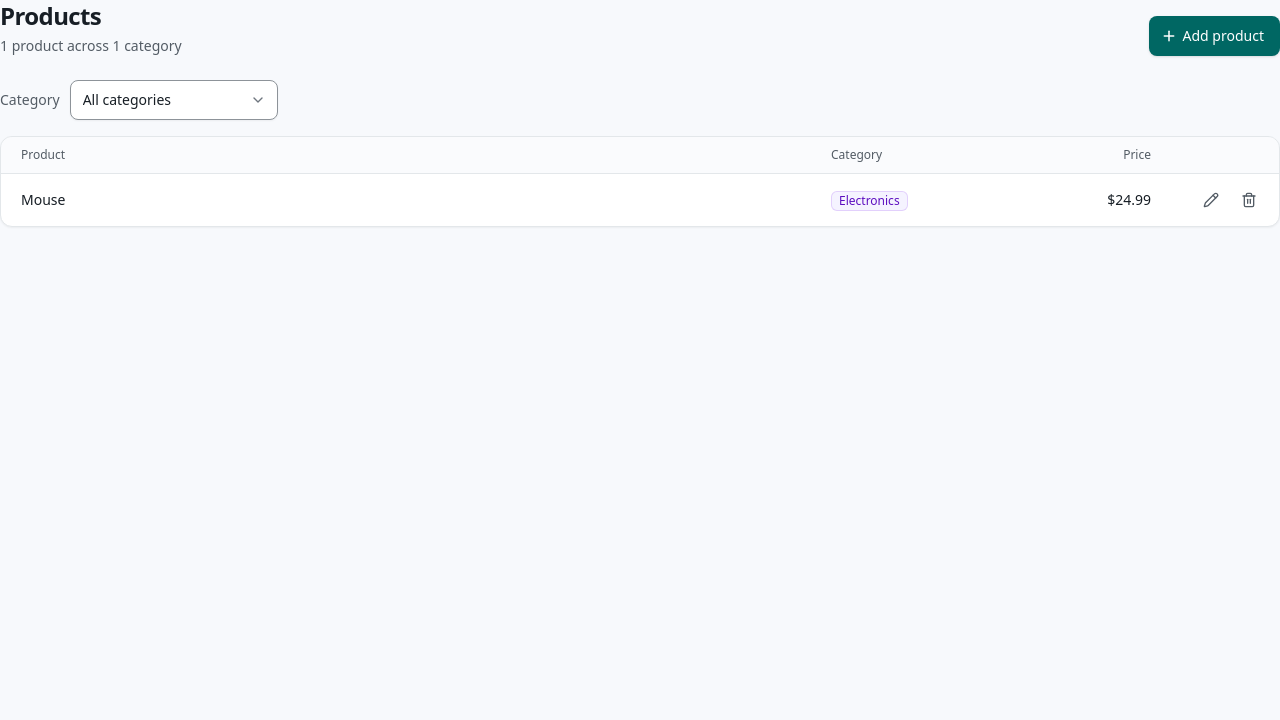
delete product › does nothing when cancelled
Click the button named "Delete Mouse": (1249, 200) [1231,182,1267,218]
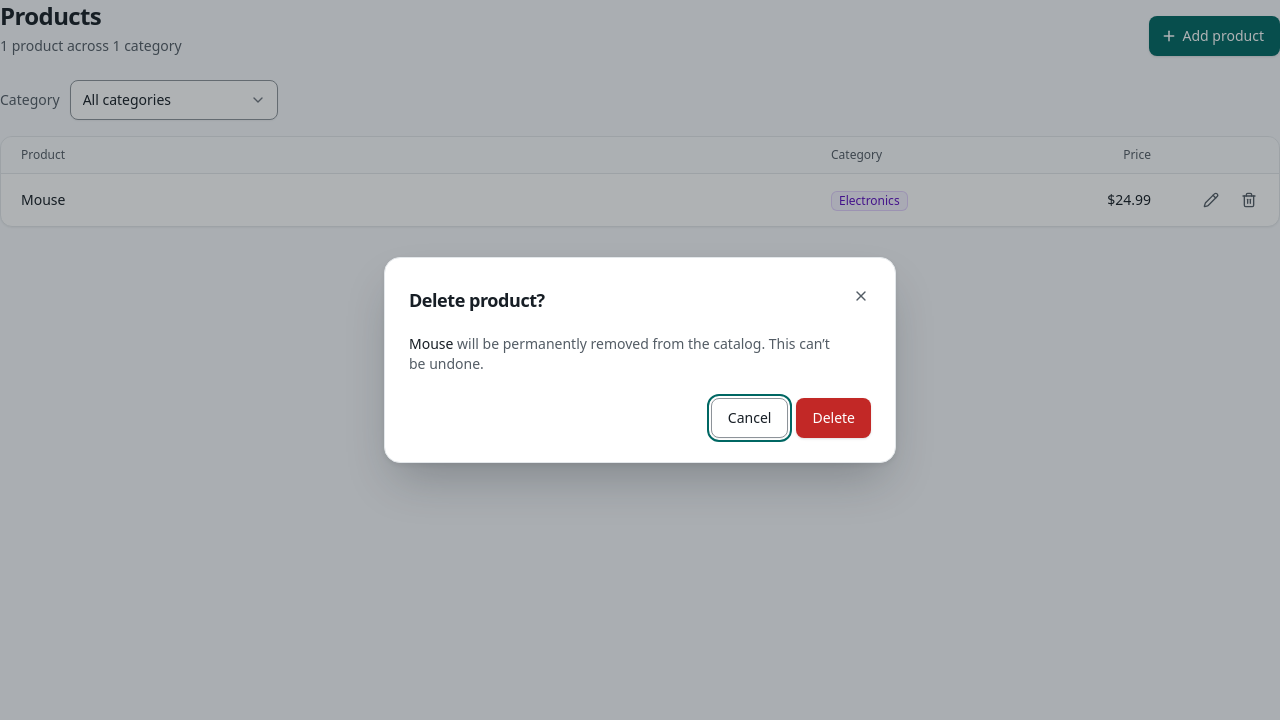
Click the button "Cancel": (750, 418) [711,398,788,438]
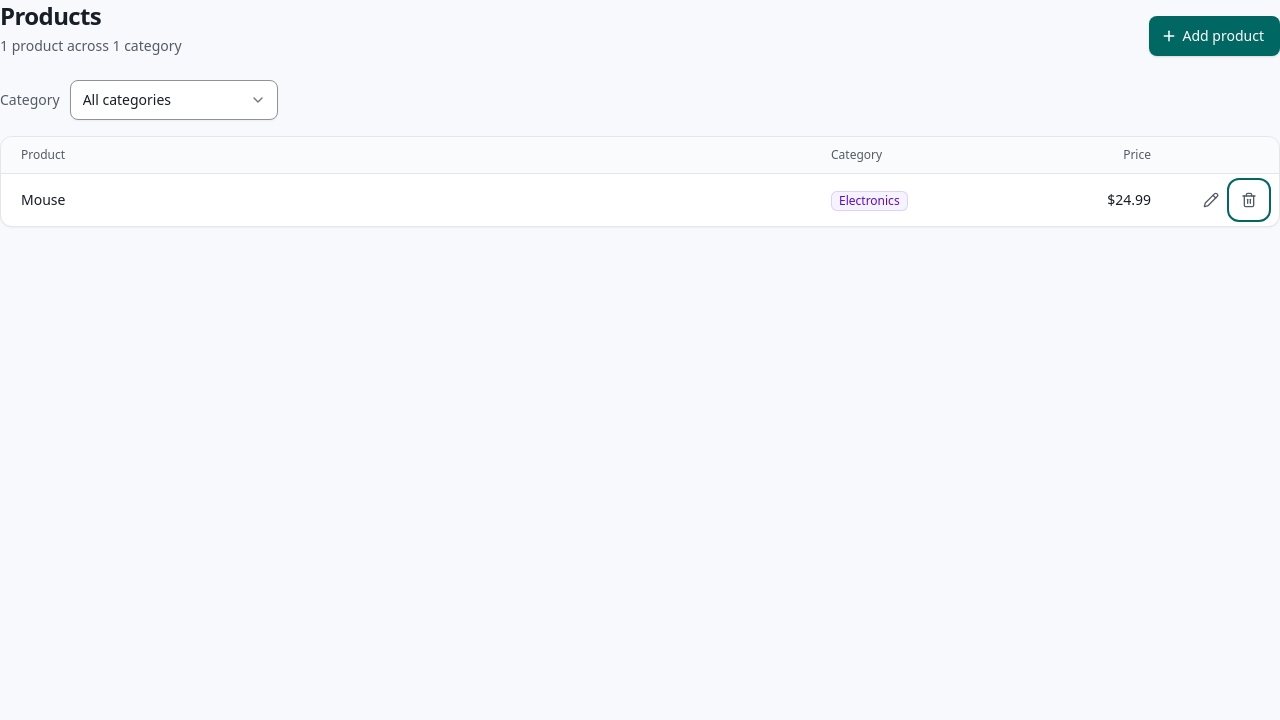
Expected: the button named "Delete Mouse" is shown, [1231,182,1267,218]
Expected: the dialog is gone
